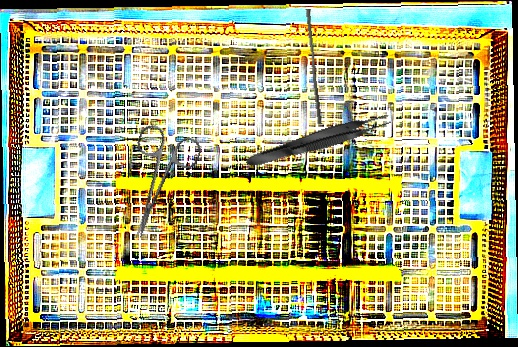Iris Scissors: (106, 121, 205, 248)
Pusher: (301, 8, 327, 125)
Tissue Forceps: (243, 108, 393, 173)
